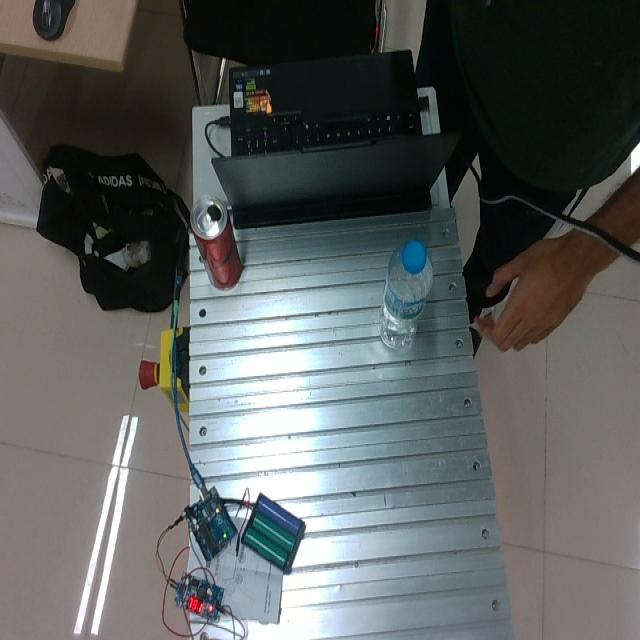coca: (189, 193, 244, 290)
lavie: (378, 237, 433, 351)
